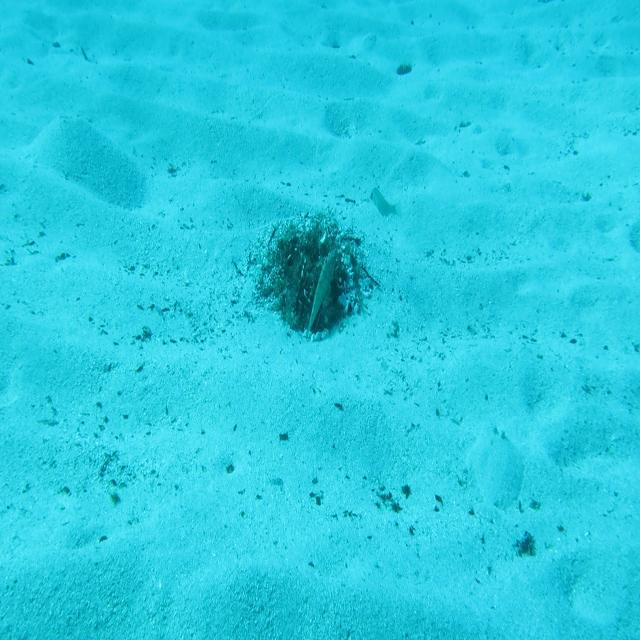LF: (305, 244, 339, 340)
female: (368, 179, 406, 228)
nest: (260, 212, 377, 338)
